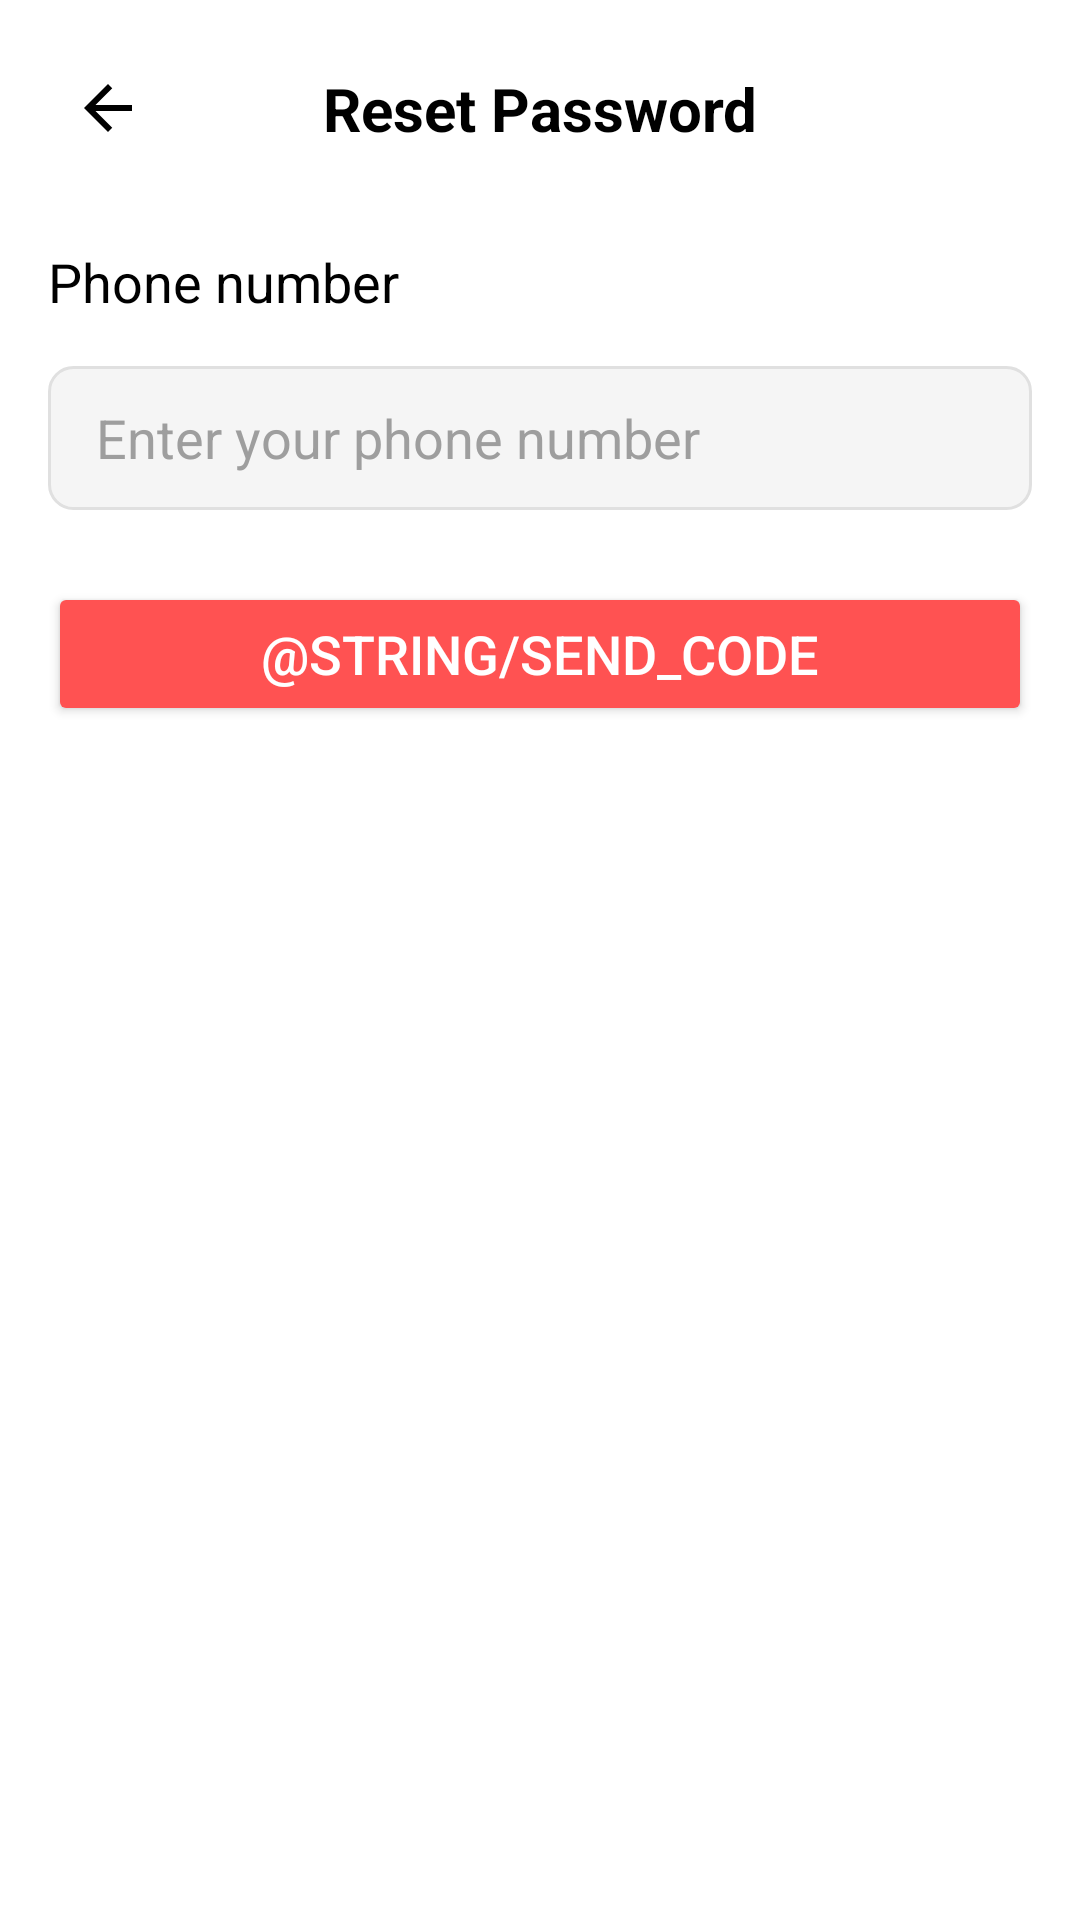

Where to tap for icons on this 1080 x 1920 app screen, as (x=x, y=y):
arrow back: (x=108, y=108)
